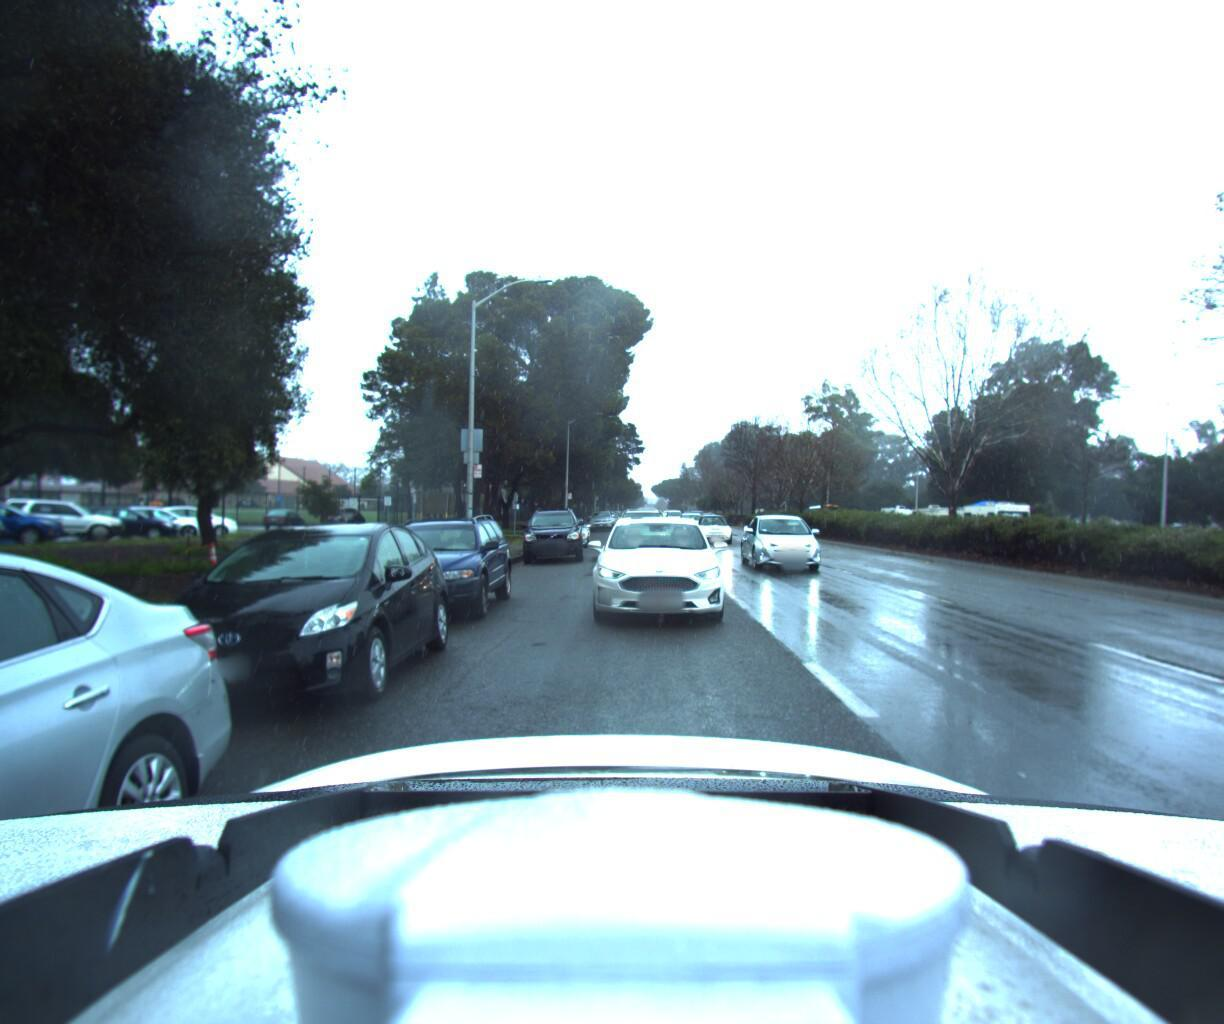car: (93, 519, 452, 738), (336, 510, 514, 627), (588, 506, 733, 631), (739, 513, 835, 574), (517, 501, 584, 563), (610, 507, 672, 562), (691, 513, 737, 545), (674, 509, 706, 533), (585, 506, 611, 529)
other_vehicle: (944, 494, 1032, 546), (903, 500, 964, 538), (874, 501, 918, 534)
